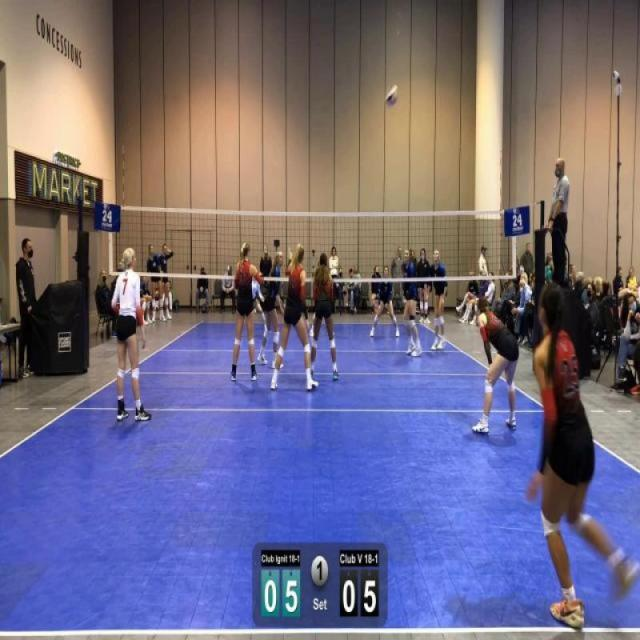volleyball: (384, 83, 399, 109)
